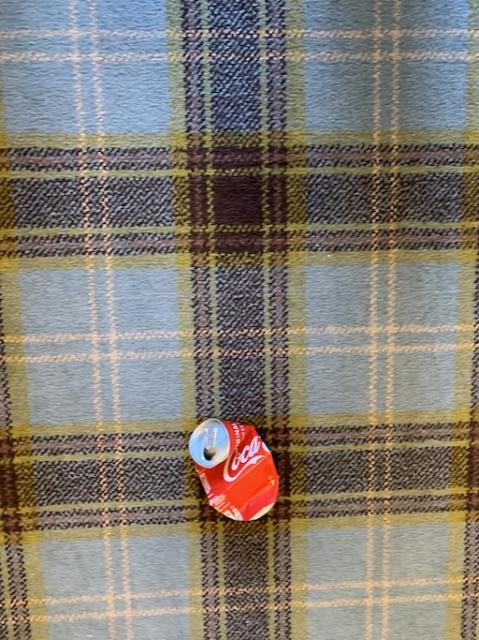metal: (188, 417, 277, 519)
